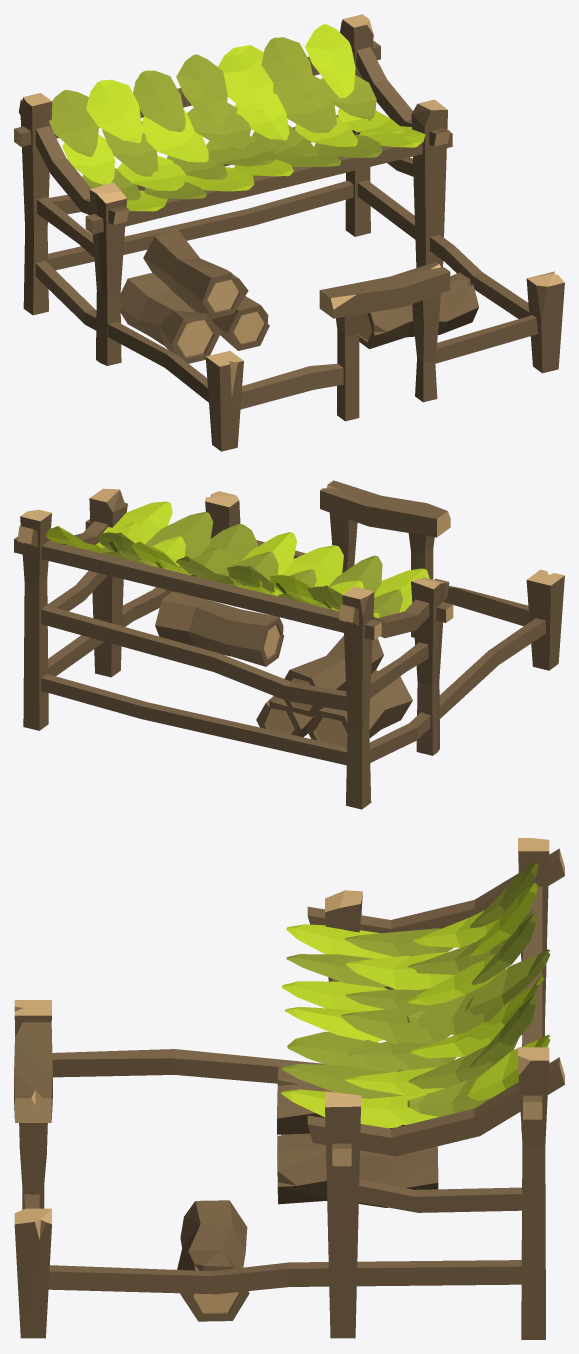
Rendered from Wood_storage_1.fbx.
3 renders of one model, top to bottom at view 1: azimuth 30°, elevation 25°; view 2: azimuth 150°, elevation 25°; view 3: azimuth 270°, elevation 25°, orthographic. The views are drawn at different scales.
Parts seen in each view (by area): view 1: Cube.217; view 2: Cube.217; view 3: Cube.217.
Part boxes in pixels (<box>): Cube.217: <box>14,14,564,451</box>; Cube.217: <box>14,480,564,809</box>; Cube.217: <box>14,838,564,1339</box>.
Bounding box in the file's own units: 1431 × 812 × 1424.
